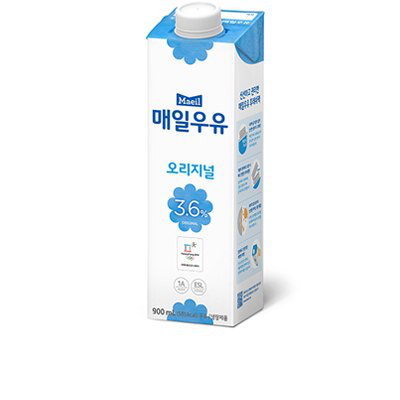milk: (146, 2, 265, 328)
